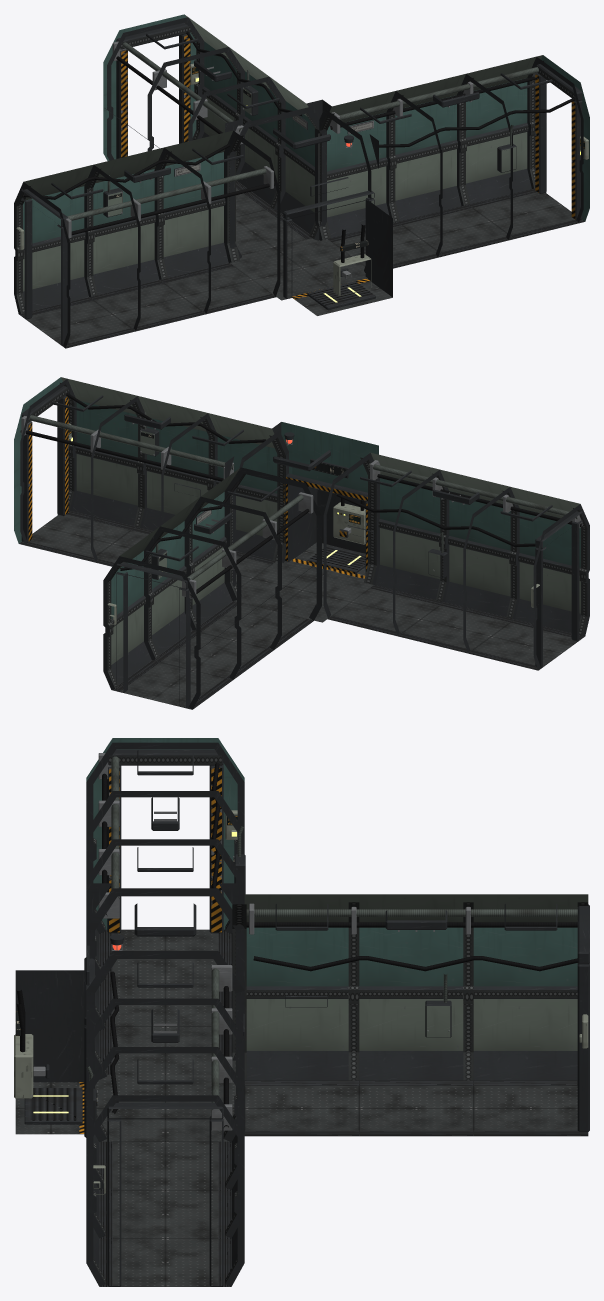
File: ROOM_corridor.glb
3 views of the same model, one above another, from view 1: azimuth 30°, elevation 25°; view 2: azimuth 150°, elevation 25°; view 3: azimuth 270°, elevation 25° (orthographic). The views are drawn at different scales.
Parts seen in each view (by area): view 1: ST_corr_hub, ST_corr_east_02, ST_corr_east_03, ST_corr_west_01, ST_corr_west_02, ST_corr_west_03, ST_corr_east_01, ST_corr_stem_01, ST_corr_stem_02, ST_corr_end_command, ST_corr_end_engineering, ST_corr_stem_03 (+6 smaller); view 2: ST_corr_hub, ST_corr_west_02, ST_corr_east_03, ST_corr_west_01, ST_corr_west_03, ST_corr_stem_03, ST_corr_stem_02, ST_corr_east_02, ST_corr_stem_01, ST_corr_east_01, ST_corr_end_engineering, DET_corridor_pipes_east (+6 smaller); view 3: ST_corr_stem_02, ST_corr_stem_01, ST_corr_stem_03, ST_corr_hub, ST_corr_east_03, ST_corr_east_02, ST_corr_east_01, ST_corr_west_03, ST_corr_end_cryo, ST_corr_west_02, ST_corr_west_01, DET_corridor_pipes_stem (+5 smaller).
Part boxes in pixels (x1,y1,x2,y2): ST_corr_hub: [224, 99, 392, 315]; ST_corr_east_02: [395, 72, 514, 255]; ST_corr_east_03: [466, 55, 584, 238]; ST_corr_west_01: [154, 130, 276, 314]; ST_corr_west_02: [84, 147, 205, 331]; ST_corr_west_03: [14, 164, 135, 348]; ST_corr_east_01: [327, 89, 444, 268]; ST_corr_stem_01: [188, 74, 315, 254]; ST_corr_stem_02: [145, 44, 277, 216]; ST_corr_end_command: [103, 14, 199, 160]; ST_corr_end_engineering: [535, 55, 589, 221]; ST_corr_stem_03: [104, 15, 236, 160]; ST_corr_hub: [224, 422, 379, 622]; ST_corr_west_02: [398, 469, 519, 653]; ST_corr_east_03: [19, 377, 137, 560]; ST_corr_west_01: [327, 452, 449, 636]; ST_corr_west_03: [468, 487, 589, 670]; ST_corr_stem_03: [103, 527, 239, 709]; ST_corr_stem_02: [144, 497, 280, 679]; ST_corr_east_02: [89, 394, 208, 566]; ST_corr_stem_01: [184, 468, 320, 650]; ST_corr_east_01: [161, 411, 277, 586]; ST_corr_end_engineering: [14, 377, 72, 543]; DET_corridor_pipes_east: [20, 393, 265, 481]; ST_corr_stem_02: [359, 894, 473, 1136]; ST_corr_stem_01: [244, 894, 359, 1136]; ST_corr_stem_03: [473, 894, 588, 1136]; ST_corr_hub: [15, 883, 246, 1142]; ST_corr_east_03: [86, 1059, 244, 1286]; ST_corr_east_02: [86, 1009, 244, 1238]; ST_corr_east_01: [86, 962, 244, 1190]; ST_corr_west_03: [86, 742, 244, 977]; ST_corr_end_cryo: [86, 738, 244, 933]; ST_corr_west_02: [86, 791, 244, 1026]; ST_corr_west_01: [86, 839, 244, 1074]; DET_corridor_pipes_stem: [246, 903, 577, 971].
Size of the model in its own units: 9.64 by 2.42 by 6.54.
Materials: 7 (4 with a texture image).
